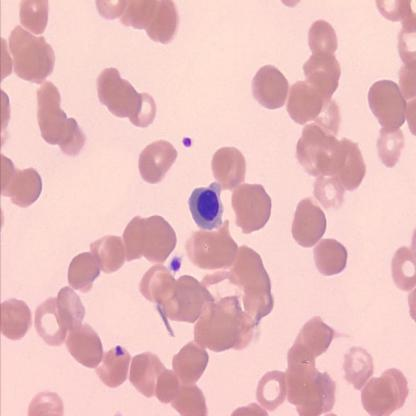NRC: (186, 180, 227, 232)
